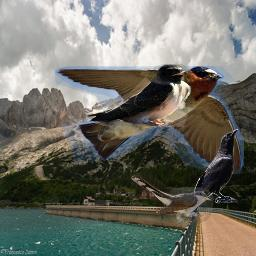Crow: (187, 128, 238, 221)
Cuckoo: (130, 172, 214, 226)
Swallow: (55, 66, 244, 174), (85, 64, 192, 127)
